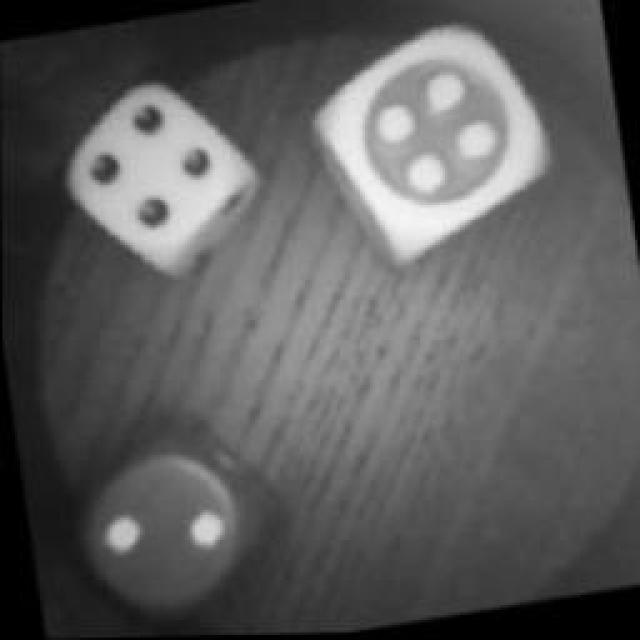dice_2: (58, 407, 286, 640)
dice_4: (299, 8, 556, 272), (52, 69, 266, 279)
